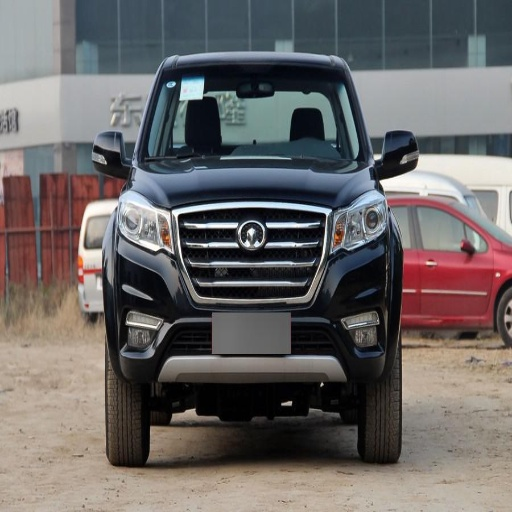front_bumper: (105, 203, 400, 377)
front_left_light: (330, 197, 388, 253)
front_right_door: (423, 212, 489, 316)
front_right_light: (116, 192, 171, 249)
hood: (135, 139, 370, 208)
left_mirror: (373, 129, 419, 178)
